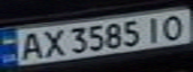3: (66, 25, 87, 54)
5: (121, 17, 145, 47), (87, 21, 109, 52)
8: (103, 20, 127, 51)
A: (15, 29, 48, 62)
I: (139, 15, 169, 43)
O: (157, 11, 190, 40)
X: (36, 26, 69, 59)
